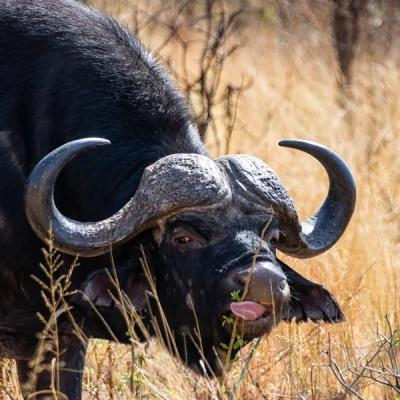buffalo: (0, 0, 355, 400)
